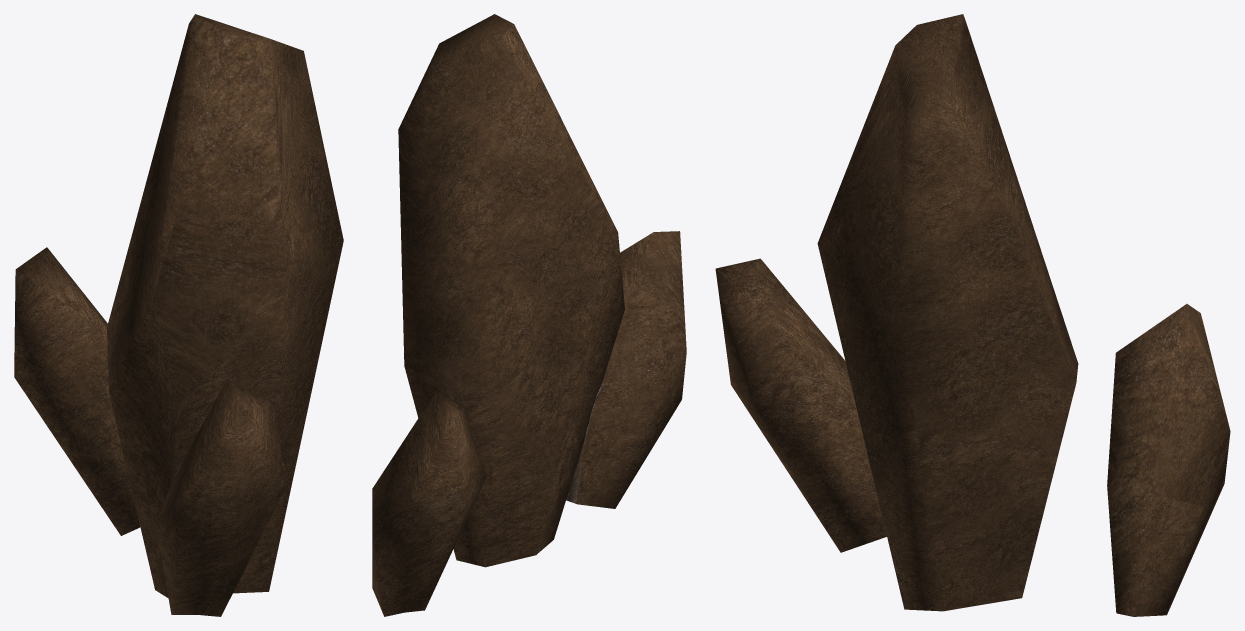
Rendered from crystalDirt.glb.
The picture shows the model from 3 angles, left to right: view 1: azimuth 30°, elevation 25°; view 2: azimuth 150°, elevation 25°; view 3: azimuth 270°, elevation 25°; orthographic projection. The views are drawn at different scales.
Visible parts, largest first — view 1: crystal; view 2: crystal; view 3: crystal.
Part boxes in pixels (x1,y1,x2,y2): crystal: [14, 14, 343, 616]; crystal: [372, 14, 686, 616]; crystal: [715, 14, 1230, 616].
Size of the model in its own units: 1.98 by 4.83 by 3.83.
Materials: 1 (1 with a texture image).
